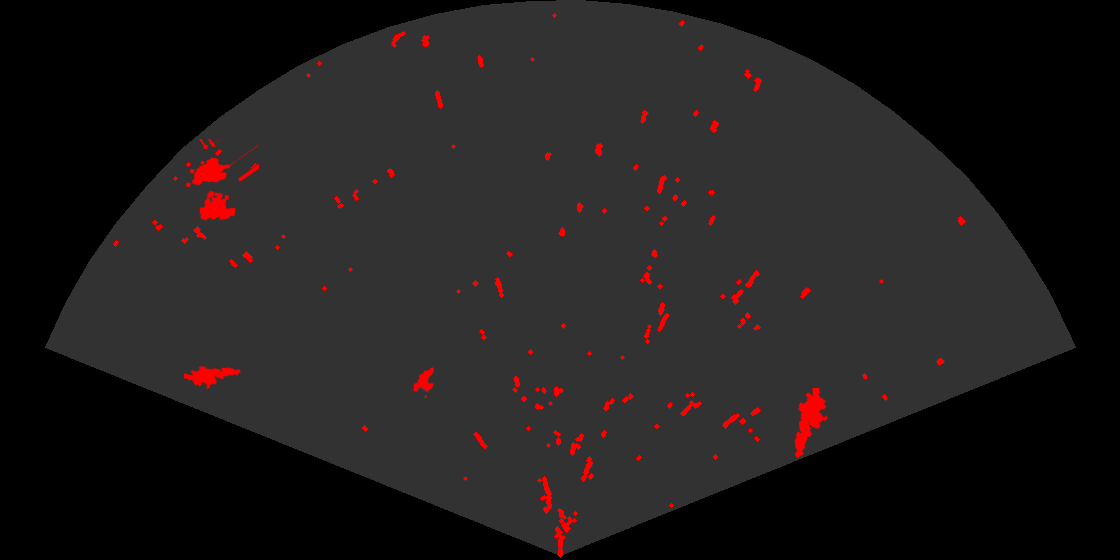AUV: (412, 365, 436, 400)
cage: (184, 139, 259, 222)
frogman: (793, 388, 830, 460), (184, 364, 242, 391)
